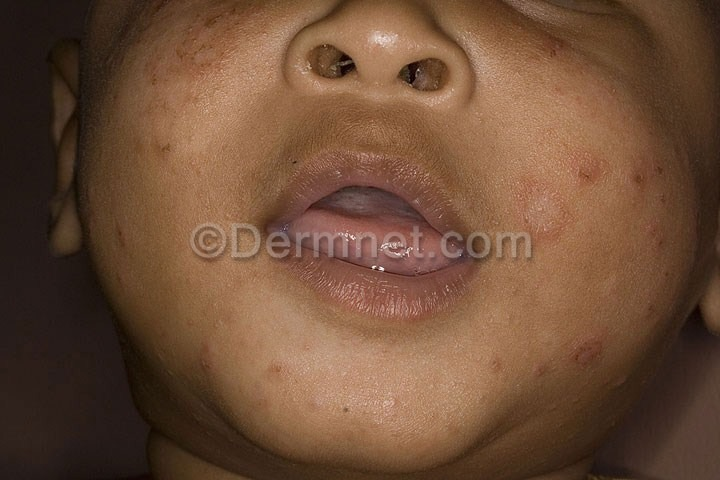Eczema: (513, 20, 684, 409), (157, 328, 458, 454), (97, 1, 284, 192), (102, 215, 151, 296), (469, 341, 506, 385)
